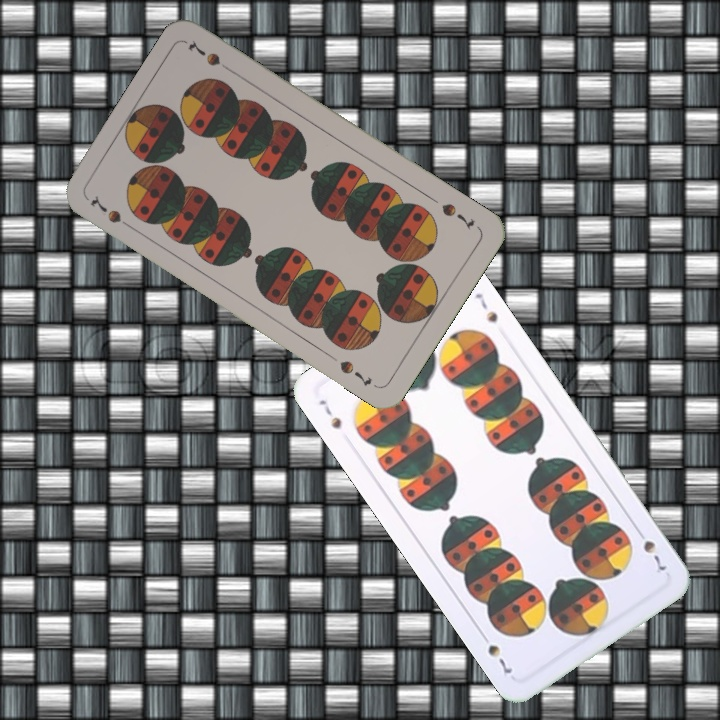S7: (86, 191, 137, 232), (632, 524, 669, 573), (437, 199, 477, 232), (314, 395, 344, 432)
